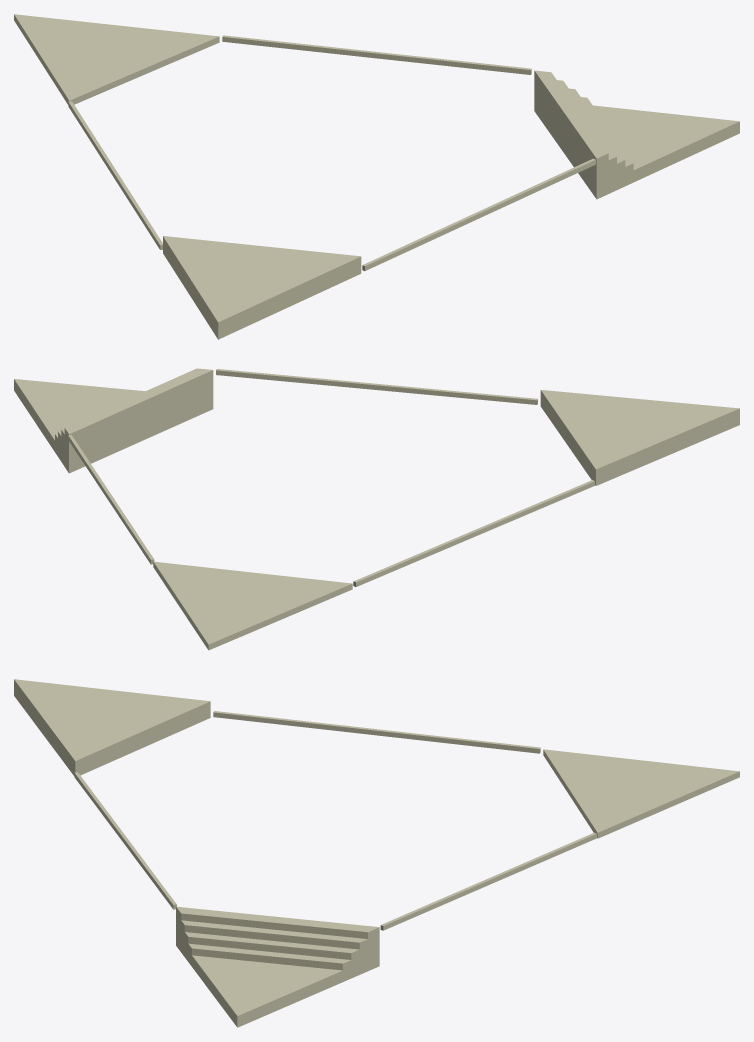
The model's file is homomonument.glb.
3 renders of one model, top to bottom at view 1: azimuth 30°, elevation 25°; view 2: azimuth 150°, elevation 25°; view 3: azimuth 270°, elevation 25°, orthographic. The views are drawn at different scales.
Visible parts, largest first — view 1: homomonument; view 2: homomonument; view 3: homomonument.
Boxes of the visible parts, x1,y1,x2,y2 form: homomonument: (14,14,739,339); homomonument: (14,368,739,650); homomonument: (14,679,739,1027).
Size of the model in its own units: 34.73 by 2.7 by 35.66.
